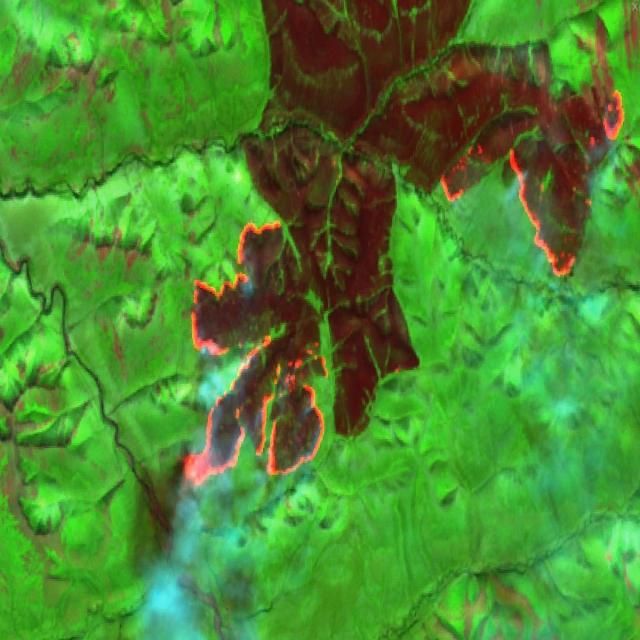fire: (174, 212, 328, 490), (438, 85, 630, 282)
